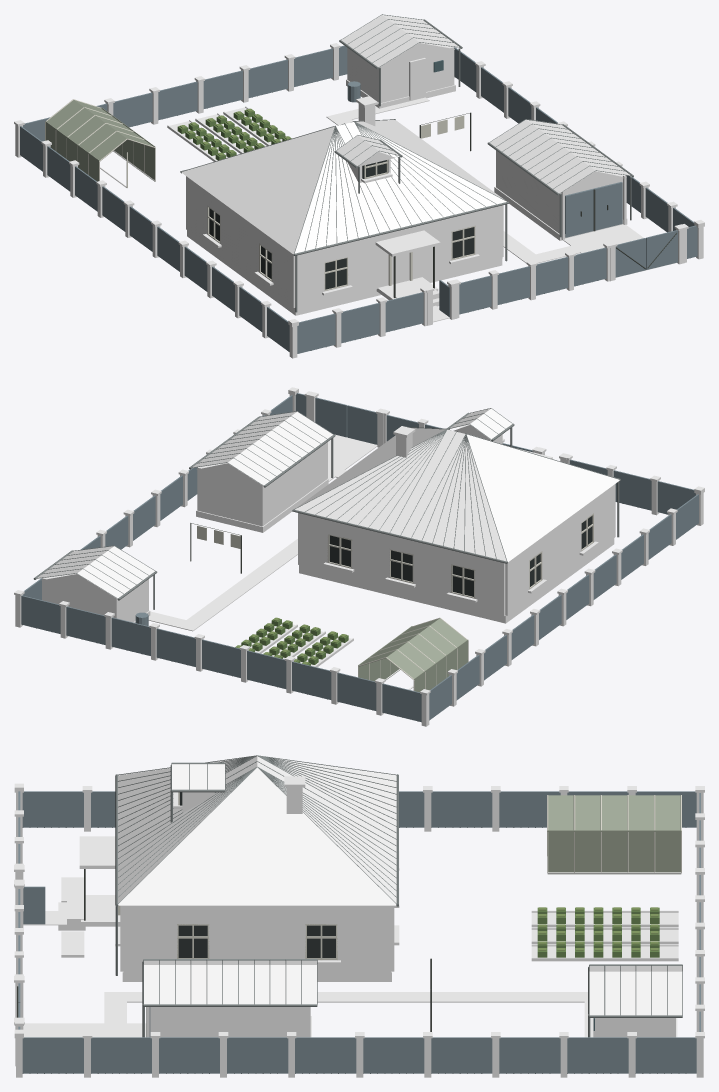
3 views of the same model, one above another, from view 1: azimuth 30°, elevation 25°; view 2: azimuth 150°, elevation 25°; view 3: azimuth 270°, elevation 25° (orthographic). The views are drawn at different scales.
Parts seen in each view (by area): view 1: ParcelGeometry.010, SummerPlanting.009; view 2: ParcelGeometry.010, SummerPlanting.009; view 3: ParcelGeometry.010, SummerPlanting.009.
Boxes of the visible parts, bbox=[...] form: ParcelGeometry.010: bbox=[14, 14, 704, 358]; SummerPlanting.009: bbox=[177, 108, 464, 160]; ParcelGeometry.010: bbox=[14, 387, 704, 726]; SummerPlanting.009: bbox=[197, 525, 348, 665]; ParcelGeometry.010: bbox=[14, 755, 704, 1077]; SummerPlanting.009: bbox=[537, 907, 659, 957].
Size of the model in its own units: 22.13 by 6.66 by 25.84.
